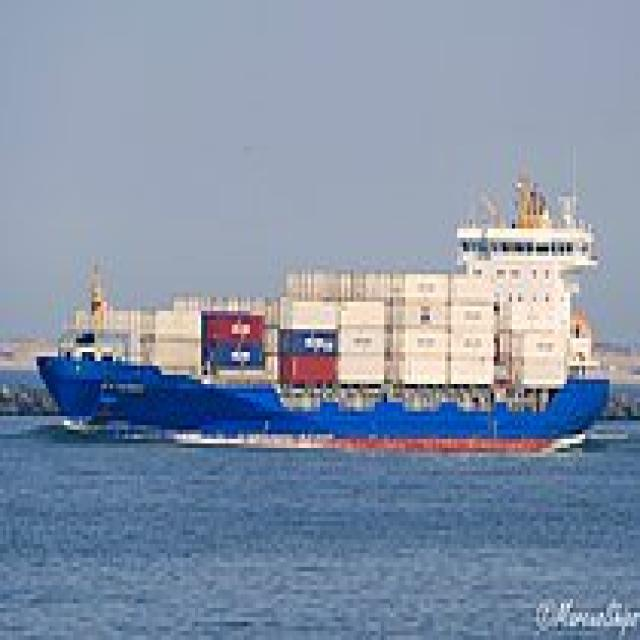Cargo: (30, 142, 612, 452)
